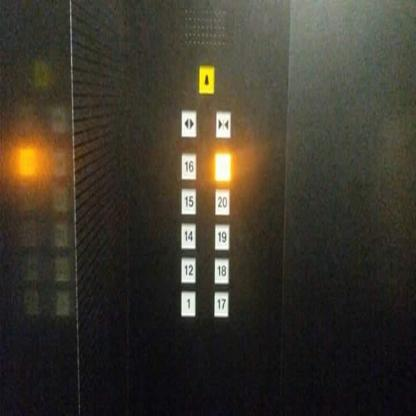1: (180, 289, 196, 316)
12: (180, 255, 196, 283)
14: (180, 222, 196, 249)
15: (180, 186, 196, 214)
16: (180, 151, 196, 179)
17: (213, 289, 229, 316)
18: (213, 256, 229, 284)
19: (214, 222, 229, 249)
20: (214, 186, 230, 215)
alarm: (198, 63, 214, 96)
close: (216, 110, 230, 138)
empty: (214, 153, 231, 181)
open: (180, 107, 197, 138)
